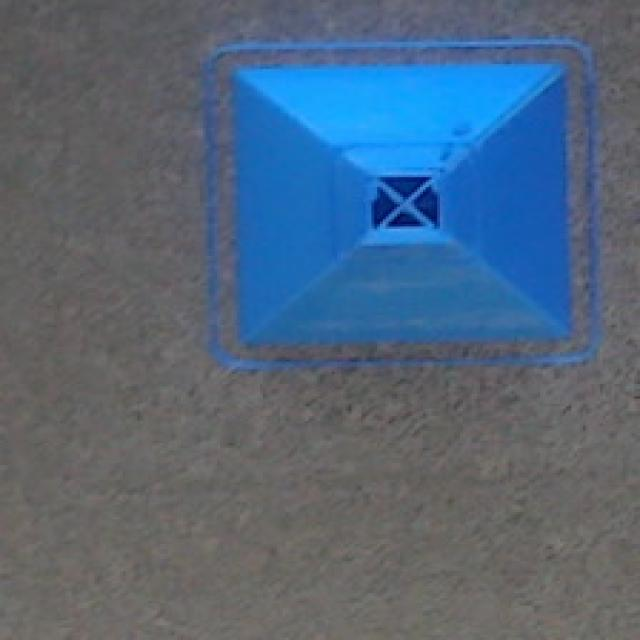mistake: (218, 55, 585, 349)
